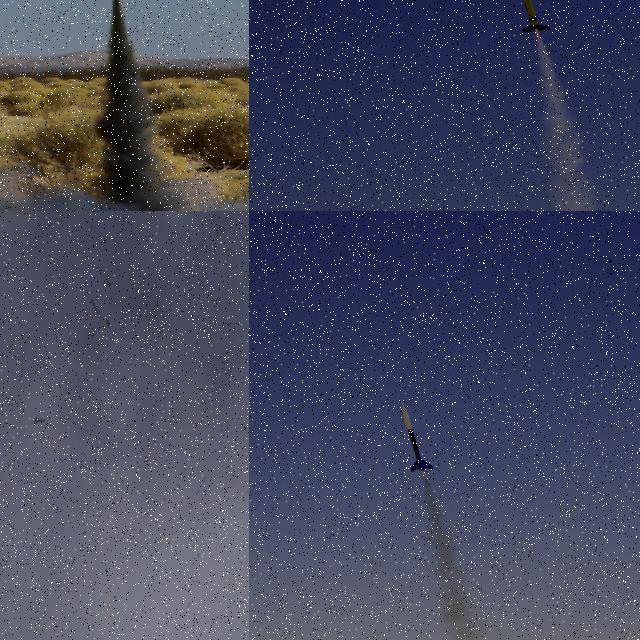Rocket: (401, 401, 434, 472), (521, 0, 550, 32), (34, 416, 46, 425)
